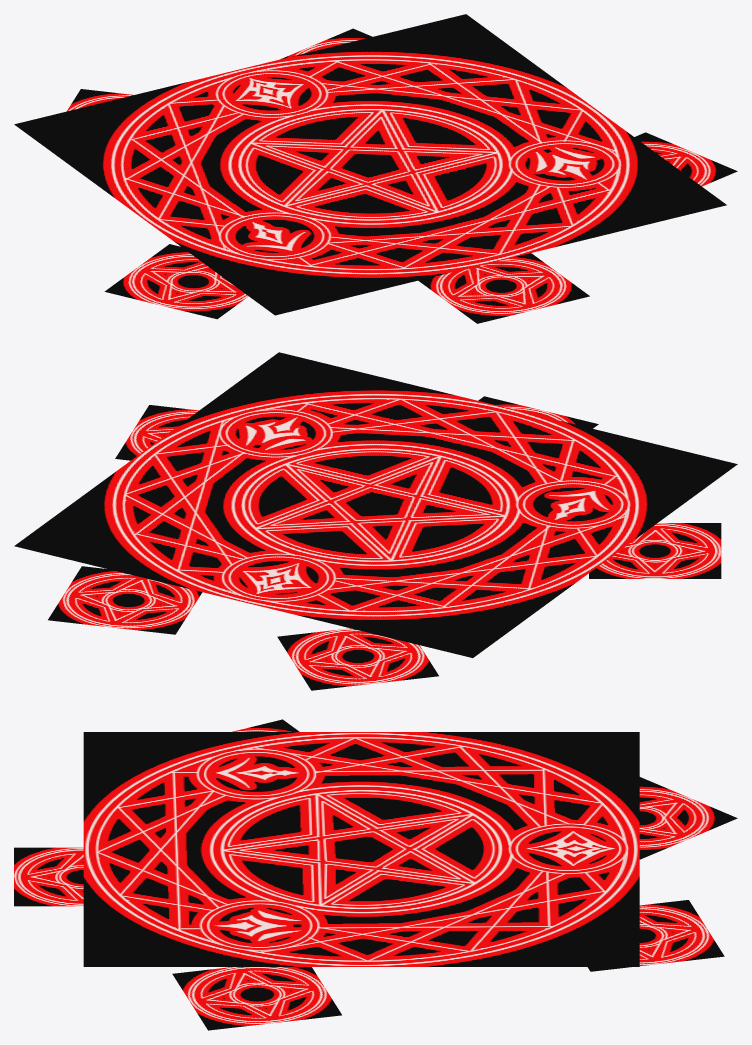
The model's file is skybox_circle_red.glb.
The picture shows the model from 3 angles, top to bottom: view 1: azimuth 30°, elevation 25°; view 2: azimuth 150°, elevation 25°; view 3: azimuth 270°, elevation 25°; orthographic projection. The views are drawn at different scales.
Parts seen in each view (by area): view 1: bridge_dev_1.smd; view 2: bridge_dev_1.smd; view 3: bridge_dev_1.smd.
Boxes of the visible parts, x1=… form: bridge_dev_1.smd: x1=14, y1=14, x2=737, y2=323; bridge_dev_1.smd: x1=14, y1=352, x2=737, y2=690; bridge_dev_1.smd: x1=14, y1=719, x2=737, y2=1030.
Bounding box in the file's own units: 6.46 × 0.2667 × 6.35.
Materials: 2 (2 with a texture image).
